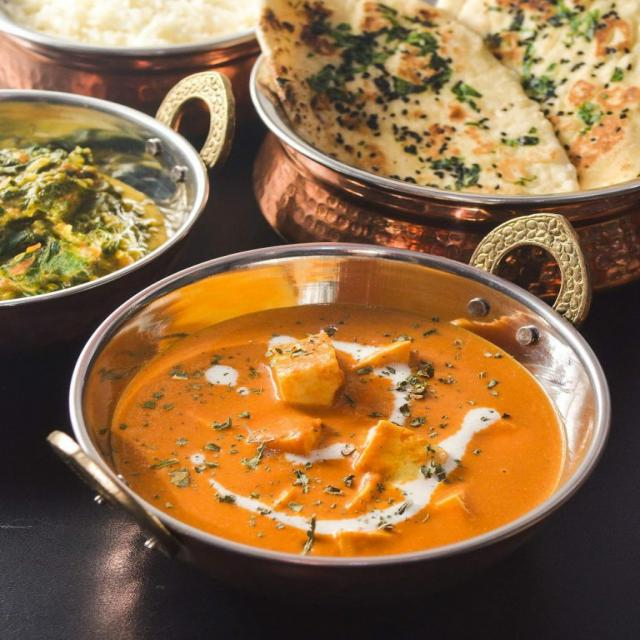ShahiPaneer: (104, 308, 564, 559)
